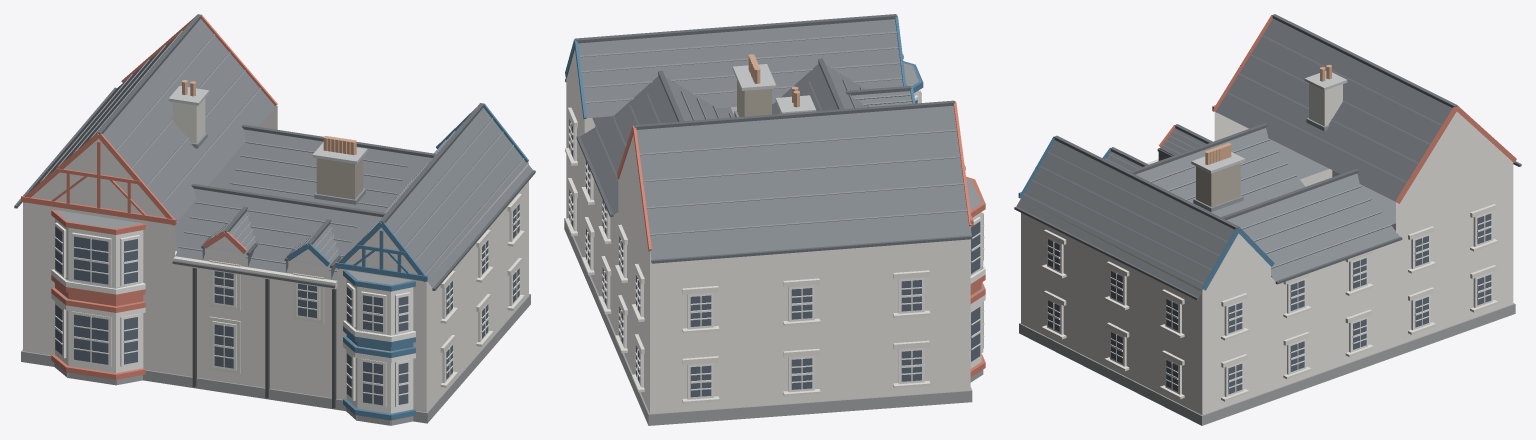
The picture shows the model from 3 angles, left to right: view 1: azimuth 30°, elevation 25°; view 2: azimuth 150°, elevation 25°; view 3: azimuth 270°, elevation 25°; orthographic projection. The views are drawn at different scales.
Visible parts, largest first — view 1: slate, harl, frame, door_red, slate_dk, slate_lt, plinth, door_blue, string, lead, pipe, chim_stone (+12 smaller); view 2: slate, harl, frame, slate_dk, slate_lt, plinth, string, door_red, stone_band, door_blue, chim_stone, lead (+9 smaller); view 3: harl, slate, frame, slate_dk, plinth, slate_lt, string, door_red, chim_stone, chim_render, door_blue, stone_band (+1 smaller).
Part boxes in pixels (bbox=[...]): slate: bbox=[18, 19, 532, 288]; harl: bbox=[23, 106, 528, 412]; frame: bbox=[51, 202, 520, 413]; door_red: bbox=[21, 15, 277, 379]; slate_dk: bbox=[14, 14, 535, 290]; slate_lt: bbox=[39, 30, 524, 274]; plinth: bbox=[21, 294, 530, 425]; door_blue: bbox=[287, 104, 528, 420]; string: bbox=[173, 193, 524, 387]; lead: bbox=[55, 132, 412, 352]; pipe: bbox=[192, 268, 336, 408]; chim_stone: bbox=[316, 157, 363, 199]; slate: bbox=[565, 19, 971, 259]; harl: bbox=[566, 49, 970, 413]; frame: bbox=[568, 90, 985, 399]; slate_dk: bbox=[565, 14, 972, 263]; slate_lt: bbox=[579, 31, 967, 235]; plinth: bbox=[564, 218, 983, 425]; string: bbox=[565, 107, 930, 404]; door_red: bbox=[617, 101, 985, 377]; stone_band: bbox=[732, 64, 816, 113]; door_blue: bbox=[565, 14, 923, 119]; chim_stone: bbox=[737, 80, 771, 116]; lead: bbox=[734, 63, 983, 295]; harl: bbox=[1021, 111, 1513, 415]; slate: bbox=[1016, 18, 1517, 297]; frame: bbox=[1047, 211, 1492, 396]; slate_dk: bbox=[1014, 14, 1521, 300]; plinth: bbox=[1019, 303, 1515, 425]; slate_lt: bbox=[1023, 35, 1442, 284]; string: bbox=[1041, 140, 1498, 401]; door_red: bbox=[1159, 15, 1516, 203]; chim_stone: bbox=[1196, 163, 1240, 206]; chim_render: bbox=[1309, 83, 1342, 126]; door_blue: bbox=[1018, 137, 1274, 290]; stone_band: bbox=[1191, 71, 1347, 173].
Bounding box in the file's own units: 20.38 × 10.57 × 21.08.
